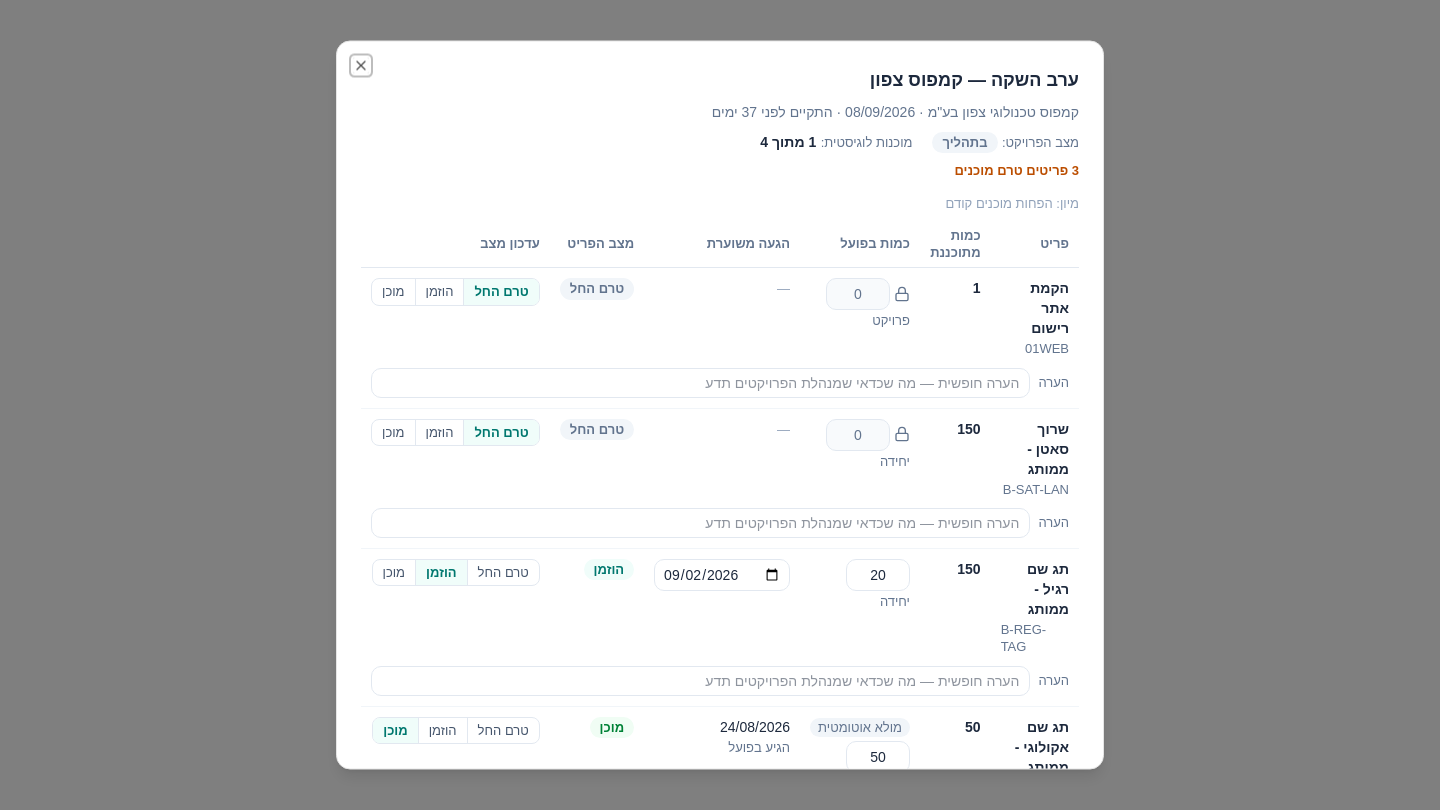
Test: ChecklistDialog — מסלול-הכתיבה › §⑦ — שלילי נחסם לפני השליחה, מוסבר, והערך חוזר לקודם
Replace the text in the field with test id "checklist-qty-B-REG-TAG-1" with "-5" at (878, 574), box left=846, top=558, right=910, bottom=590
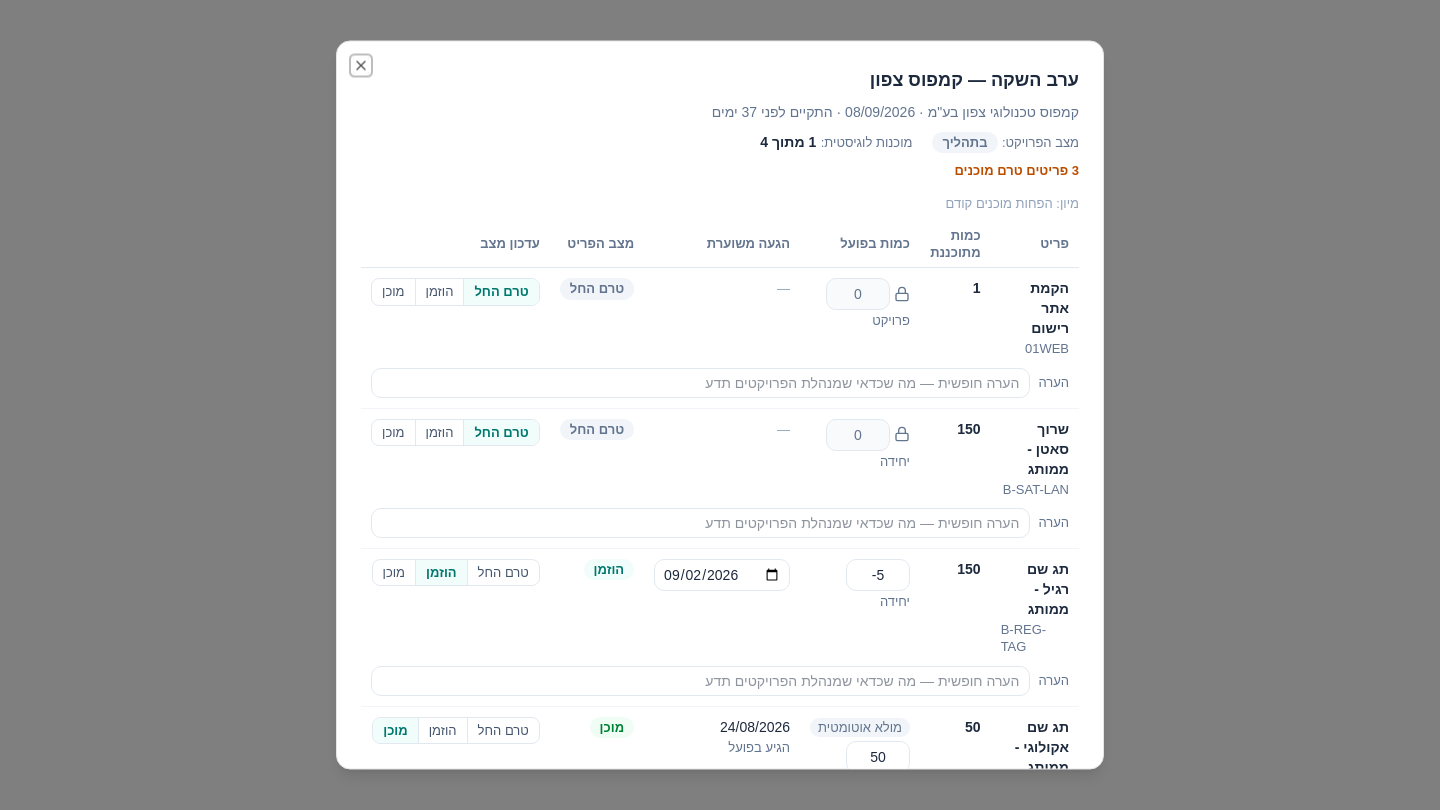
Leave the field with test id "checklist-qty-B-REG-TAG-1", box left=846, top=558, right=910, bottom=590
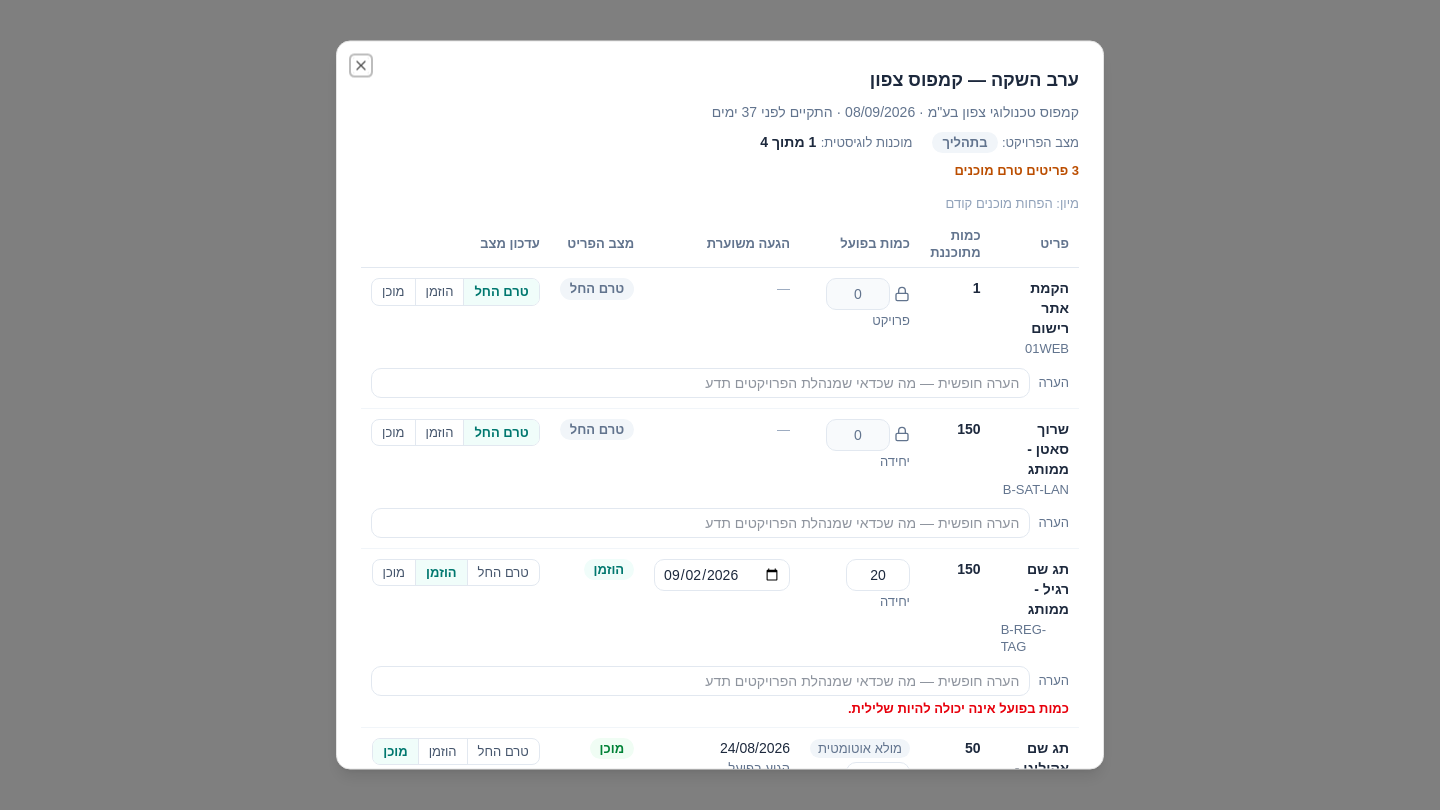
Expected: the message with test id "checklist-error-B-REG-TAG-1" reads "כמות בפועל אינה יכולה להיות שלילית.", left=848, top=700, right=1069, bottom=715
Expected: the field with test id "checklist-qty-B-REG-TAG-1" holds "20", left=846, top=558, right=910, bottom=590
